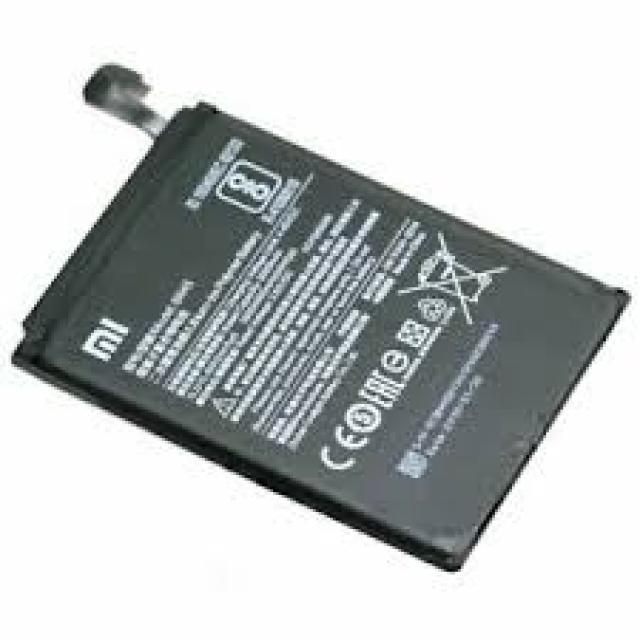Battery: (13, 47, 640, 594)
